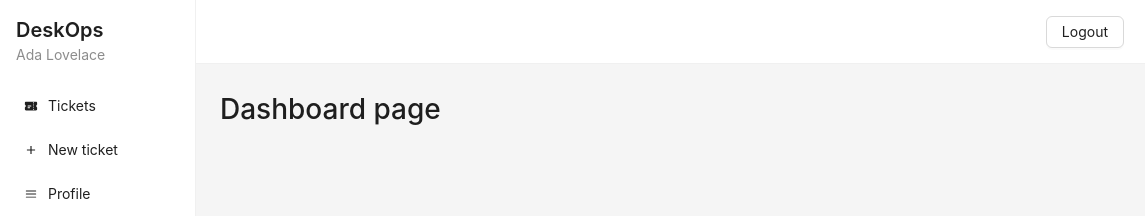
AppShell › logs out and redirects to login from header button
Click the button "Logout".
click(1085, 32)  # box [1046,16,1124,48]
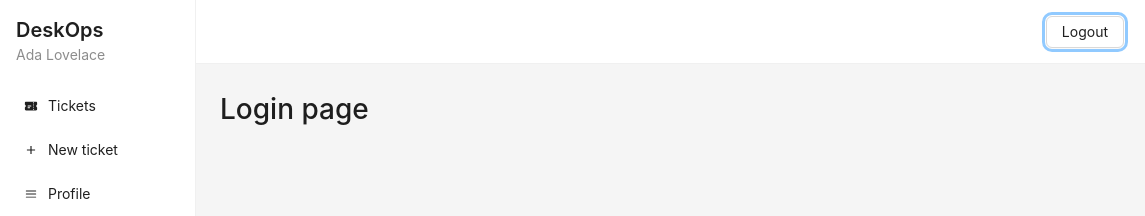
Now the heading "Login page" is shown, box [220,92,369,126]
